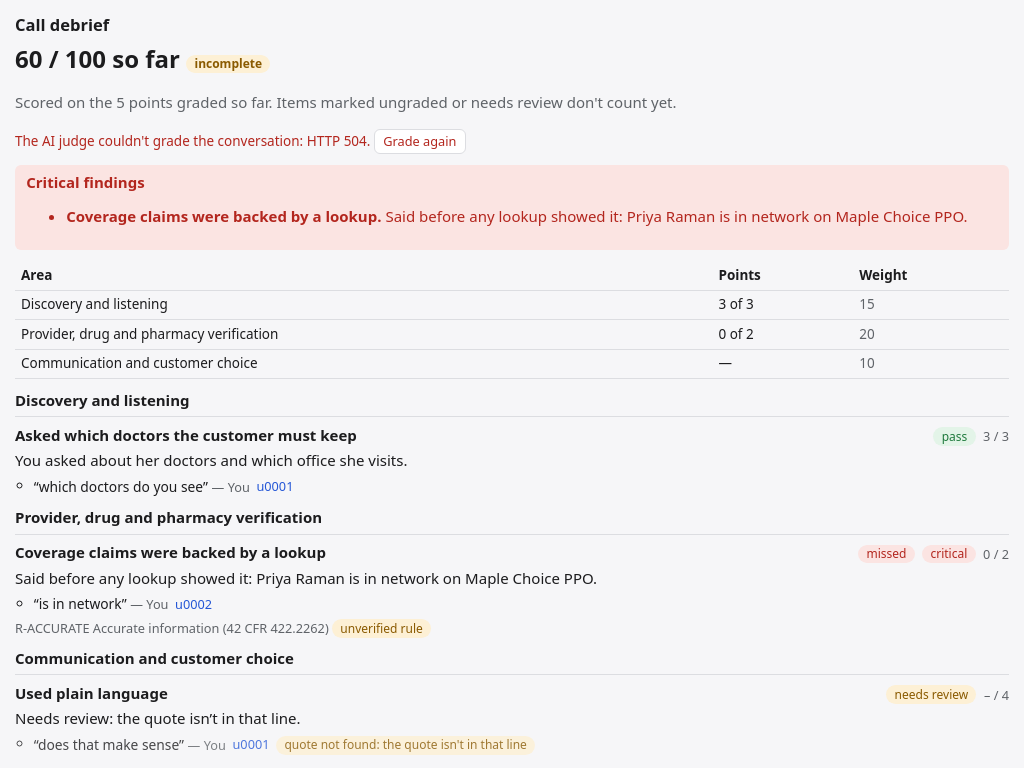
Review › offers to grade again when the grading request itself fails
Expected: the text "The AI judge couldn't grade the conversation: HTTP 504. Grade again" is shown, left=15, top=129, right=466, bottom=154
Click the button "Grade again": (420, 141) left=374, top=129, right=466, bottom=154
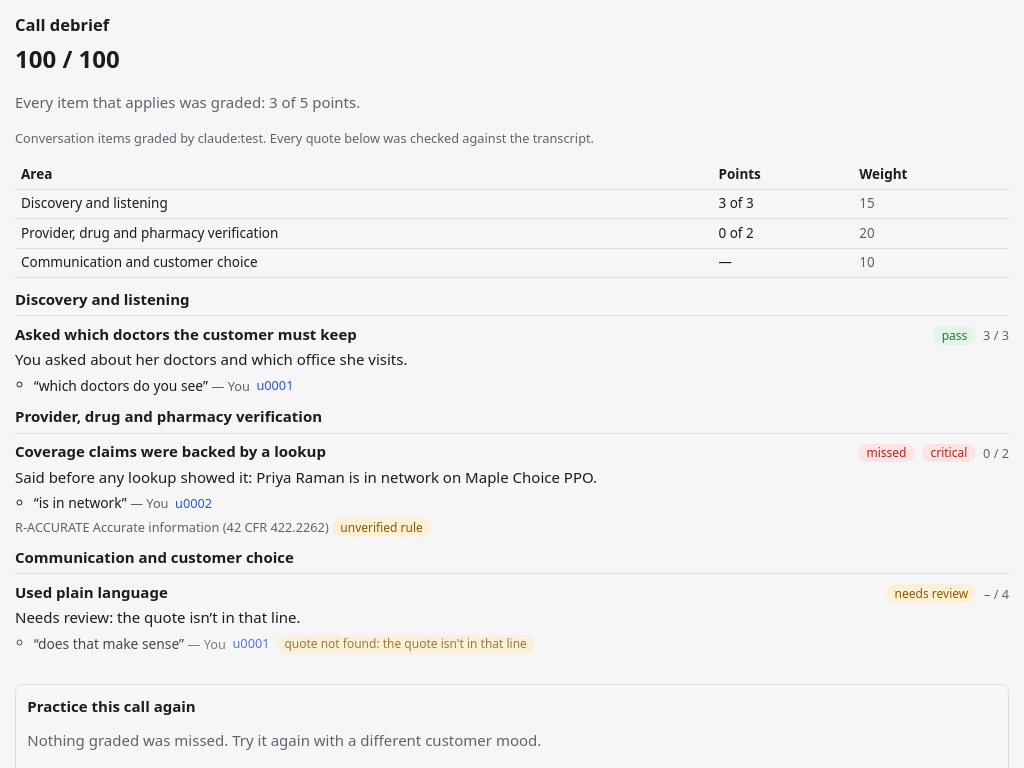
Result: the text "100 / 100" is shown at left=15, top=42, right=120, bottom=75
Result: the button "Grade again" is gone
